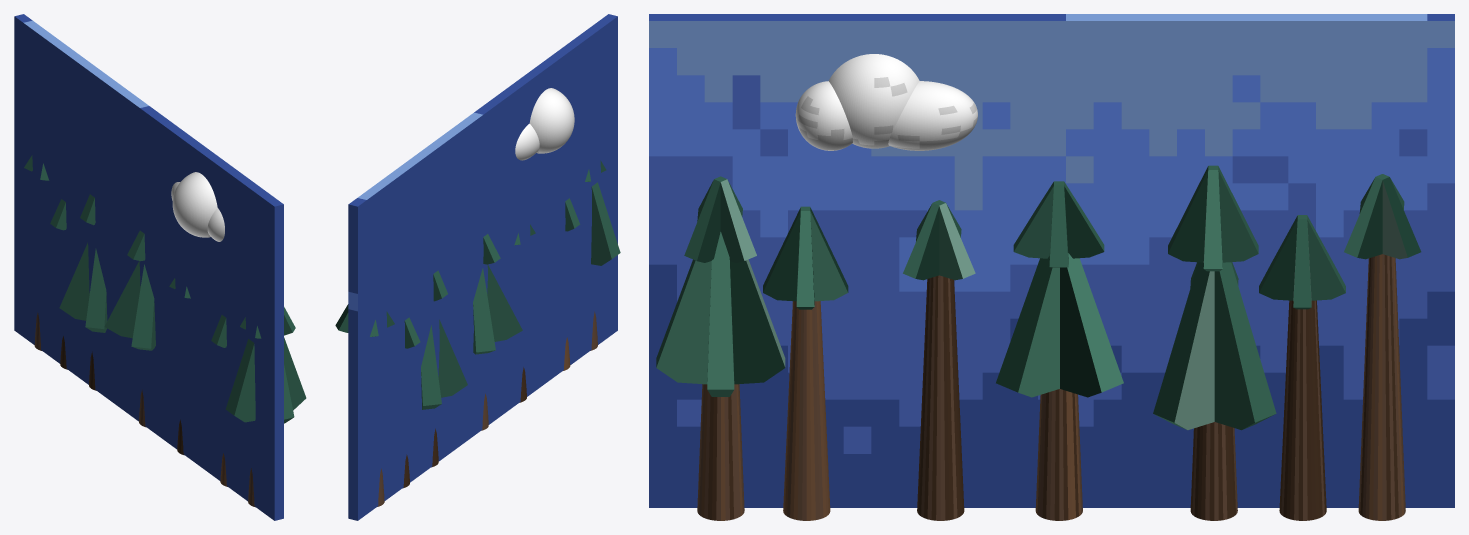
File: BackWoods.fbx
3 views of the same model, side by side, from view 1: azimuth 30°, elevation 25°; view 2: azimuth 150°, elevation 25°; view 3: azimuth 270°, elevation 25° (orthographic). The views are drawn at different scales.
Parts seen in each view (by area): view 1: zzSky, Leaves4, Leaves1, Leaves5, Cloud, Leaves2, Leaves6; view 2: zzSky, Leaves4, Cloud, Leaves5, Leaves1, Leaves7, Leaves2; view 3: zzSky, Leaves5, Leaves1, Leaves4, Cloud, Tree7, Tree3, Tree6, Tree2, Tree1, Tree4, Leaves2 (+4 smaller).
Part boxes in pixels (x1,y1,x2,y2): zzSky: (14, 14, 283, 520); Leaves4: (104, 230, 155, 350); Leaves1: (225, 307, 306, 423); Leaves5: (59, 194, 107, 332); Cloud: (171, 172, 224, 241); Leaves2: (211, 315, 226, 347); Leaves6: (50, 199, 66, 230); zzSky: (348, 14, 617, 520); Leaves4: (473, 234, 522, 354); Cloud: (515, 88, 574, 160); Leaves5: (421, 270, 467, 409); Leaves1: (585, 160, 620, 265); Leaves7: (335, 304, 394, 336); Leaves2: (565, 198, 580, 231); zzSky: (649, 14, 1454, 507); Leaves5: (1153, 165, 1276, 430); Leaves1: (656, 176, 785, 396); Leaves4: (996, 181, 1123, 397); Cloud: (795, 54, 977, 150); Tree7: (1358, 254, 1405, 520); Tree3: (917, 275, 964, 520); Tree6: (1279, 300, 1326, 520); Tree2: (783, 301, 830, 520); Tree1: (697, 384, 744, 520); Tree4: (1035, 389, 1082, 520); Leaves2: (763, 206, 848, 309).
Bounding box in the file's own units: 403 × 1604 × 2400.
